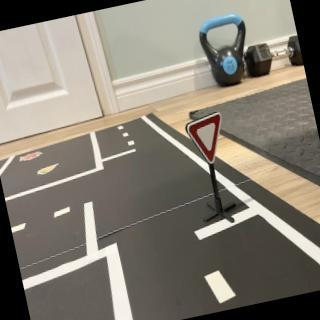sign_yield: (184, 113, 231, 169)
